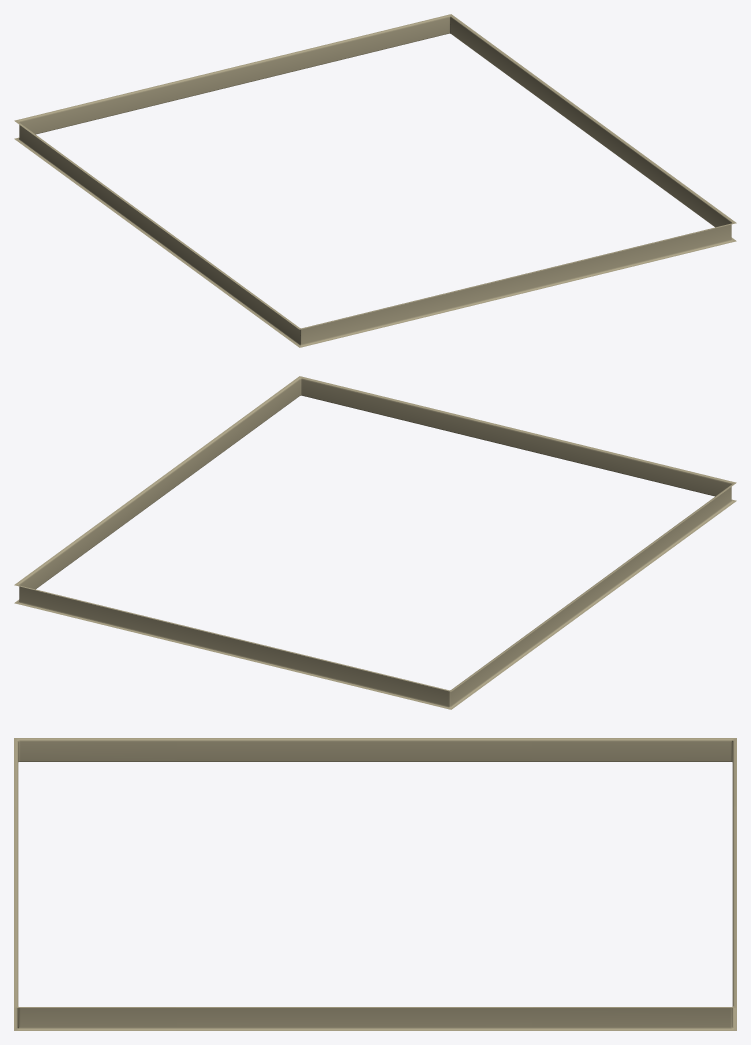
3 views of the same model, one above another, from view 1: azimuth 30°, elevation 25°; view 2: azimuth 150°, elevation 25°; view 3: azimuth 270°, elevation 25° (orthographic). The views are drawn at different scales.
Visible parts, largest first — view 1: Marco_top; view 2: Marco_top; view 3: Marco_top.
Part boxes in pixels (<box>): Marco_top: <box>14,14,736,347</box>; Marco_top: <box>14,376,736,709</box>; Marco_top: <box>14,738,736,1030</box>.
Bounding box in the file's own units: 530 × 20.96 × 600.
